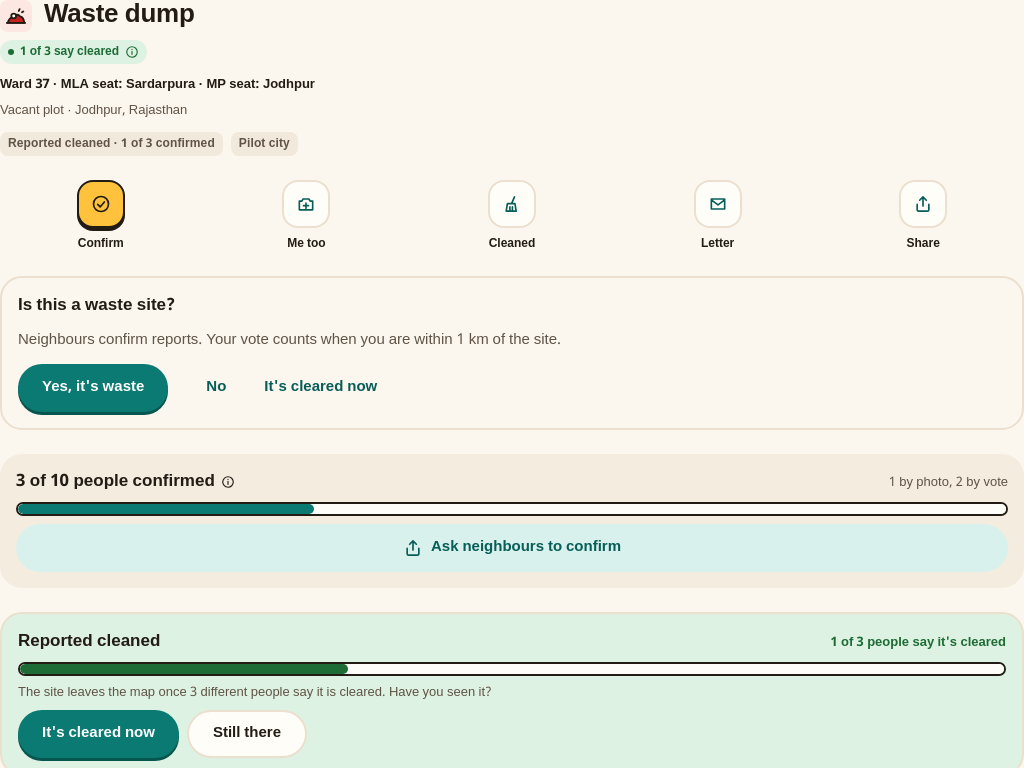
Test: the "n of 10" count explainer › explains the "n of 10" count on the site sheet, and Escape closes it
This screenshot has width=1024, height=768.
Step 1. Click the button "3 of 10 people confirmed" → {"x": 125, "y": 482}, box [16,470,235,494]
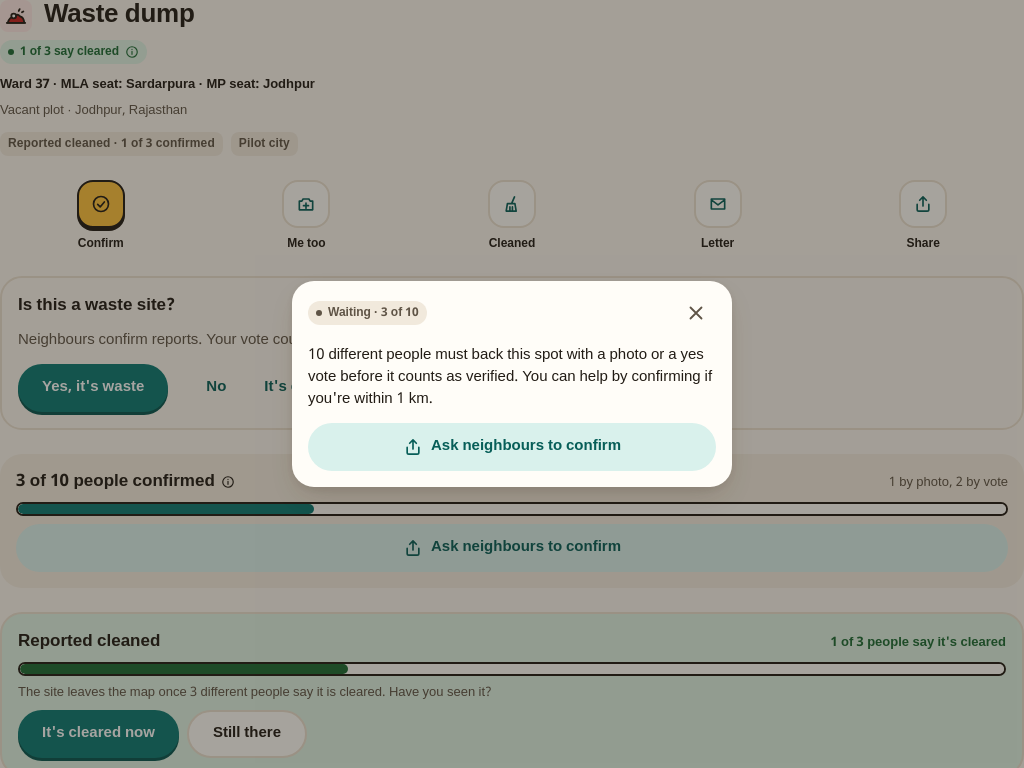
Check: the dialog "Waiting · 3 of 10" shows "10 different people must back this spot", box [308,346,712,409]
Step 2. Press Escape
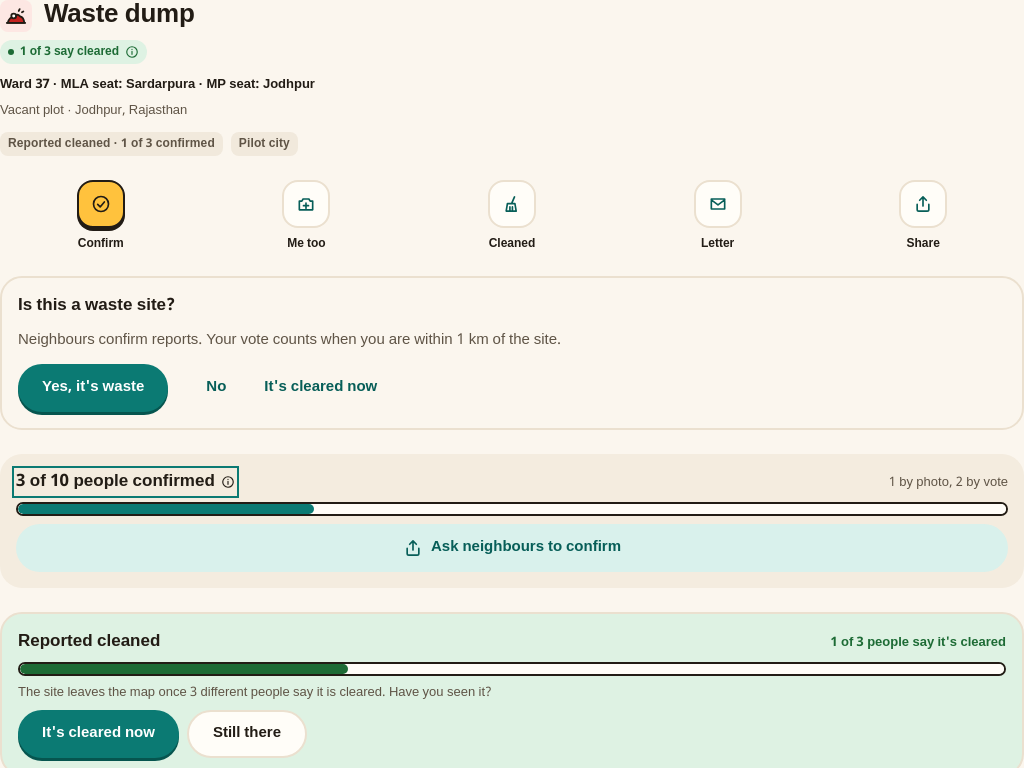
Check: the dialog is gone
